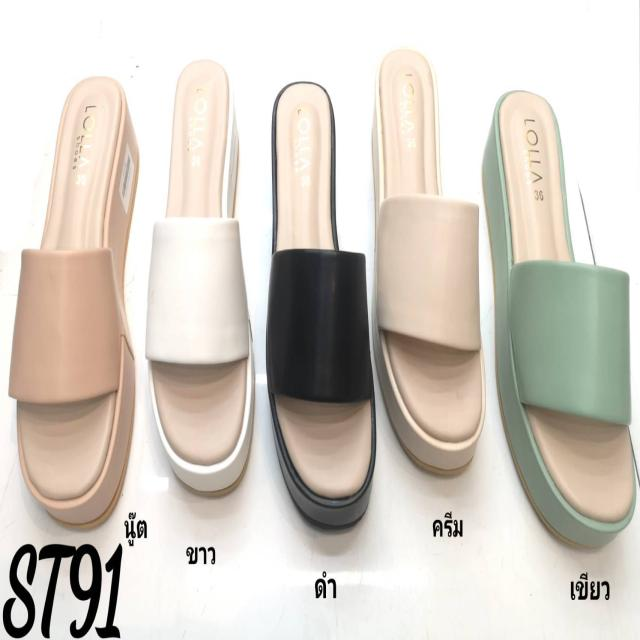black: (265, 85, 378, 528)
cream: (369, 50, 486, 473)
green: (483, 83, 639, 553)
nood: (16, 74, 136, 518)
white: (147, 59, 258, 502)
